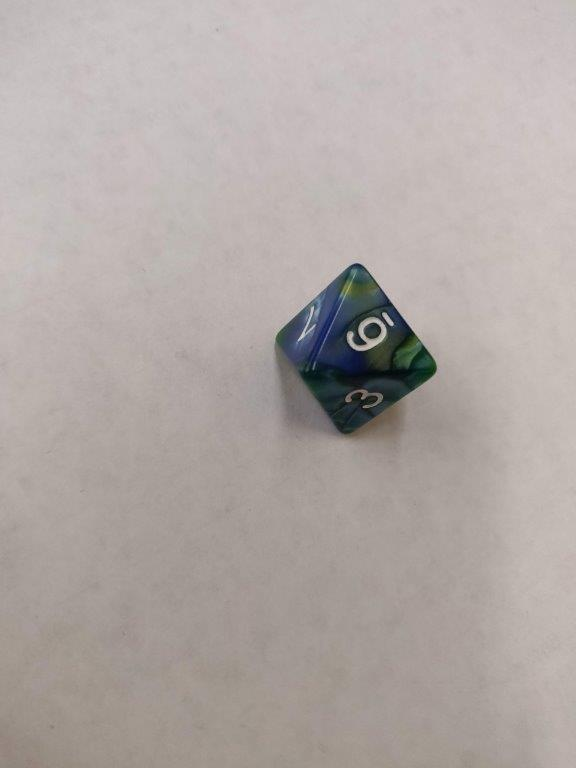d8-6: (272, 251, 439, 435)
